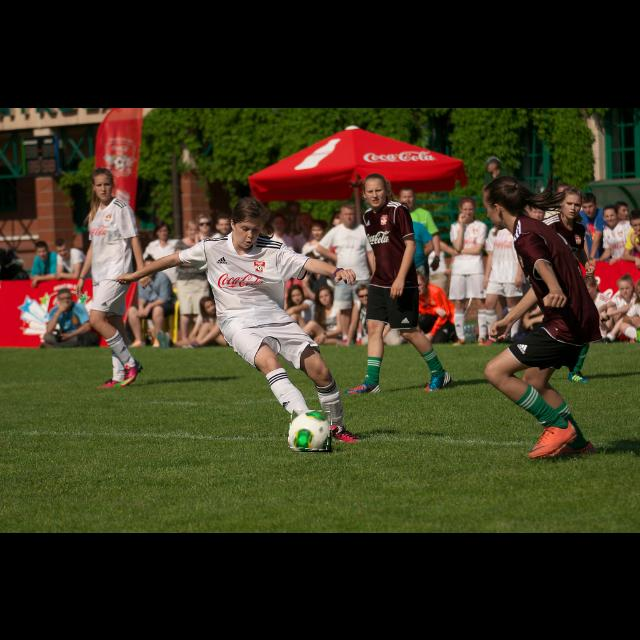Football: (289, 410, 331, 452)
